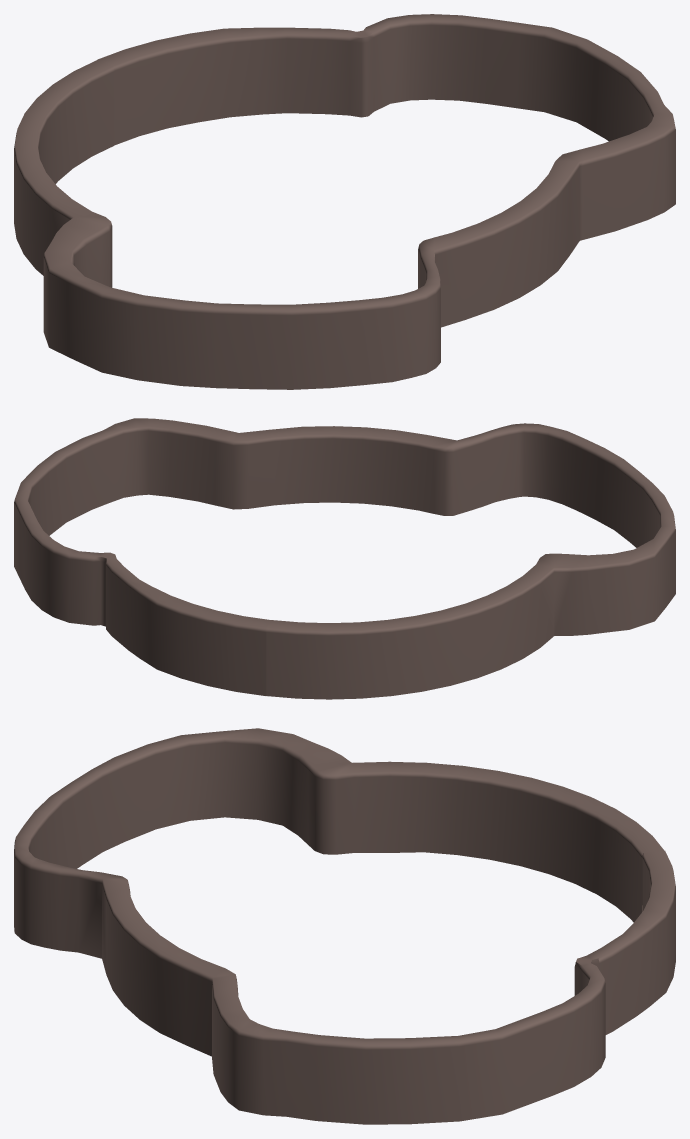
File: SM_ArenaEdgeCollision01.fbx
3 renders of one model, top to bottom at view 1: azimuth 30°, elevation 25°; view 2: azimuth 150°, elevation 25°; view 3: azimuth 270°, elevation 25°, orthographic. The views are drawn at different scales.
Visible parts, largest first — view 1: SM_ArenaEdgeCollision01; view 2: SM_ArenaEdgeCollision01; view 3: SM_ArenaEdgeCollision01.
Part boxes in pixels (x1,y1,x2,y2): SM_ArenaEdgeCollision01: [14, 14, 675, 389]; SM_ArenaEdgeCollision01: [14, 418, 675, 699]; SM_ArenaEdgeCollision01: [14, 728, 675, 1124].
Size of the model in its own units: 3942 by 469 by 3476.
